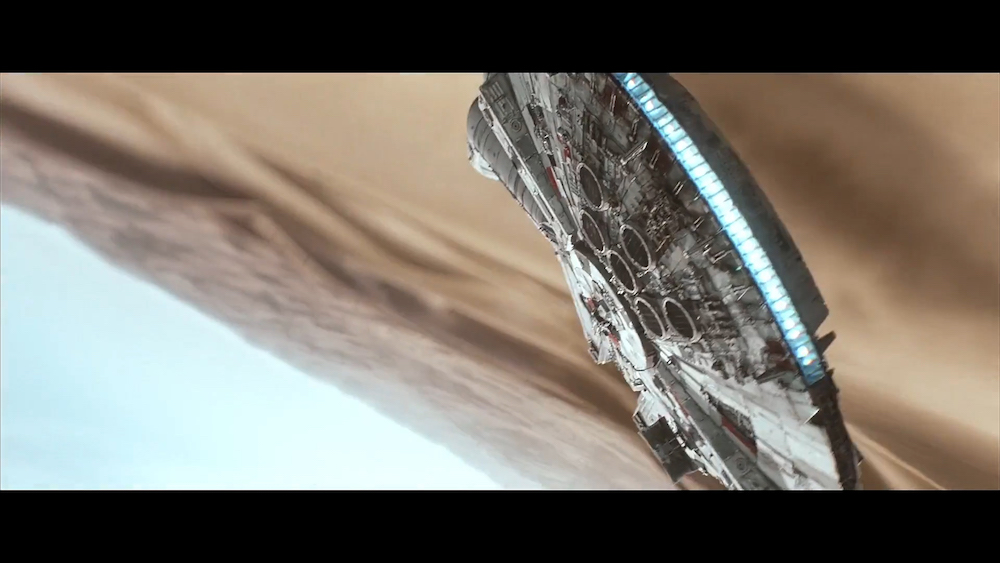Millennium Falcon: (465, 74, 866, 491)
